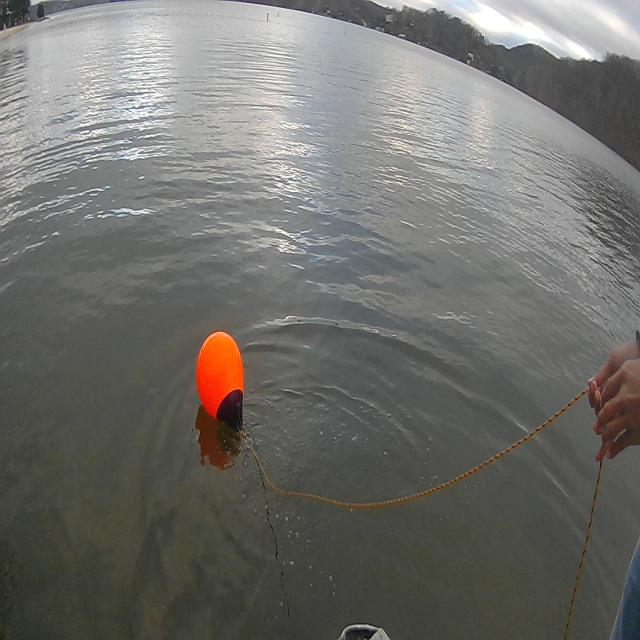Buoy: (192, 326, 249, 440)
